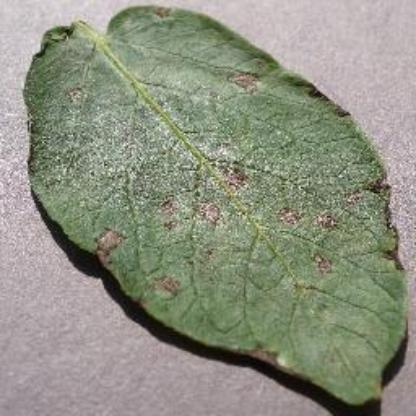Early-Blight: (25, 4, 410, 406)
